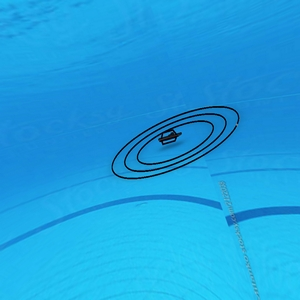circle: (108, 102, 244, 183)
submarine: (158, 129, 186, 145)
